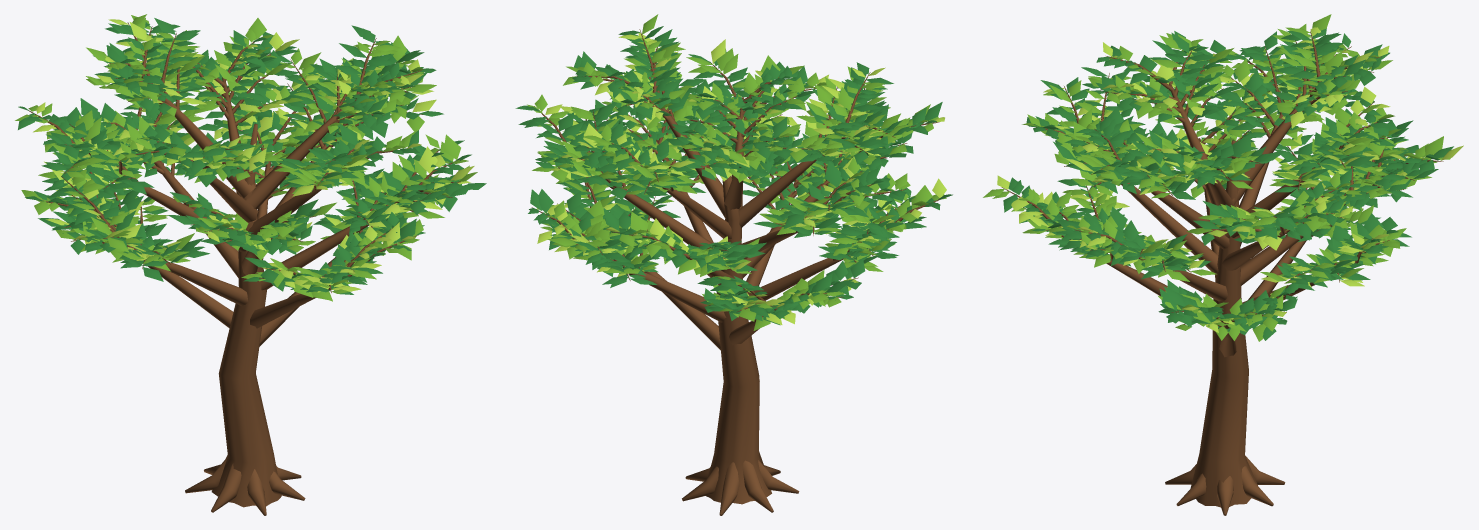
The model's file is Tree-0.glb.
3 views of the same model, side by side, from view 1: azimuth 30°, elevation 25°; view 2: azimuth 150°, elevation 25°; view 3: azimuth 270°, elevation 25° (orthographic). The views are drawn at different scales.
Parts seen in each view (by area): view 1: Neris Mature Jade Leaves, Neris Young Olive Leaves, Neris Ridged Chestnut Bark, Neris Sunlit Leaf Tips; view 2: Neris Mature Jade Leaves, Neris Young Olive Leaves, Neris Ridged Chestnut Bark, Neris Sunlit Leaf Tips; view 3: Neris Mature Jade Leaves, Neris Young Olive Leaves, Neris Ridged Chestnut Bark, Neris Sunlit Leaf Tips.
Boxes of the visible parts, box(x1,y1,x2,y2) form: Neris Mature Jade Leaves: box(18, 17, 486, 294); Neris Young Olive Leaves: box(15, 14, 477, 301); Neris Ridged Chestnut Bark: box(28, 22, 460, 515); Neris Sunlit Leaf Tips: box(33, 19, 474, 292); Neris Mature Jade Leaves: box(515, 26, 952, 325); Neris Young Olive Leaves: box(527, 14, 946, 330); Neris Ridged Chestnut Bark: box(531, 29, 940, 515); Neris Sunlit Leaf Tips: box(537, 33, 946, 324); Neris Mature Jade Leaves: box(1003, 28, 1453, 340); Neris Young Olive Leaves: box(983, 14, 1450, 341); Neris Ridged Chestnut Bark: box(1001, 31, 1443, 515); Neris Sunlit Leaf Tips: box(997, 27, 1463, 332).
Bounding box in the file's own units: 5.53 × 5.65 × 5.77.
